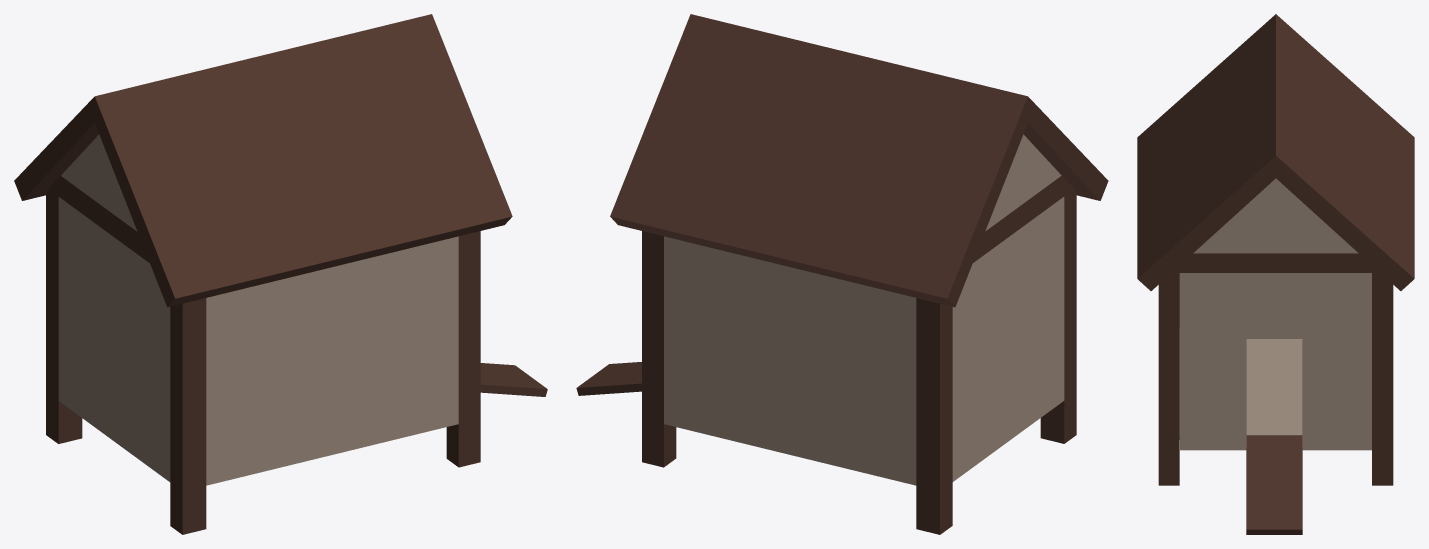
File: Chicken Coop.fbx
3 renders of one model, left to right at view 1: azimuth 30°, elevation 25°; view 2: azimuth 150°, elevation 25°; view 3: azimuth 270°, elevation 25°, orthographic. The views are drawn at different scales.
Parts seen in each view (by area): view 1: polySurface5; view 2: polySurface5; view 3: polySurface5.
Boxes of the visible parts, box(x1,y1,x2,y2) form: polySurface5: box(14, 14, 547, 534); polySurface5: box(576, 14, 1108, 534); polySurface5: box(1137, 14, 1414, 534).
Bounding box in the file's own units: 2.45 × 2.12 × 1.57.
